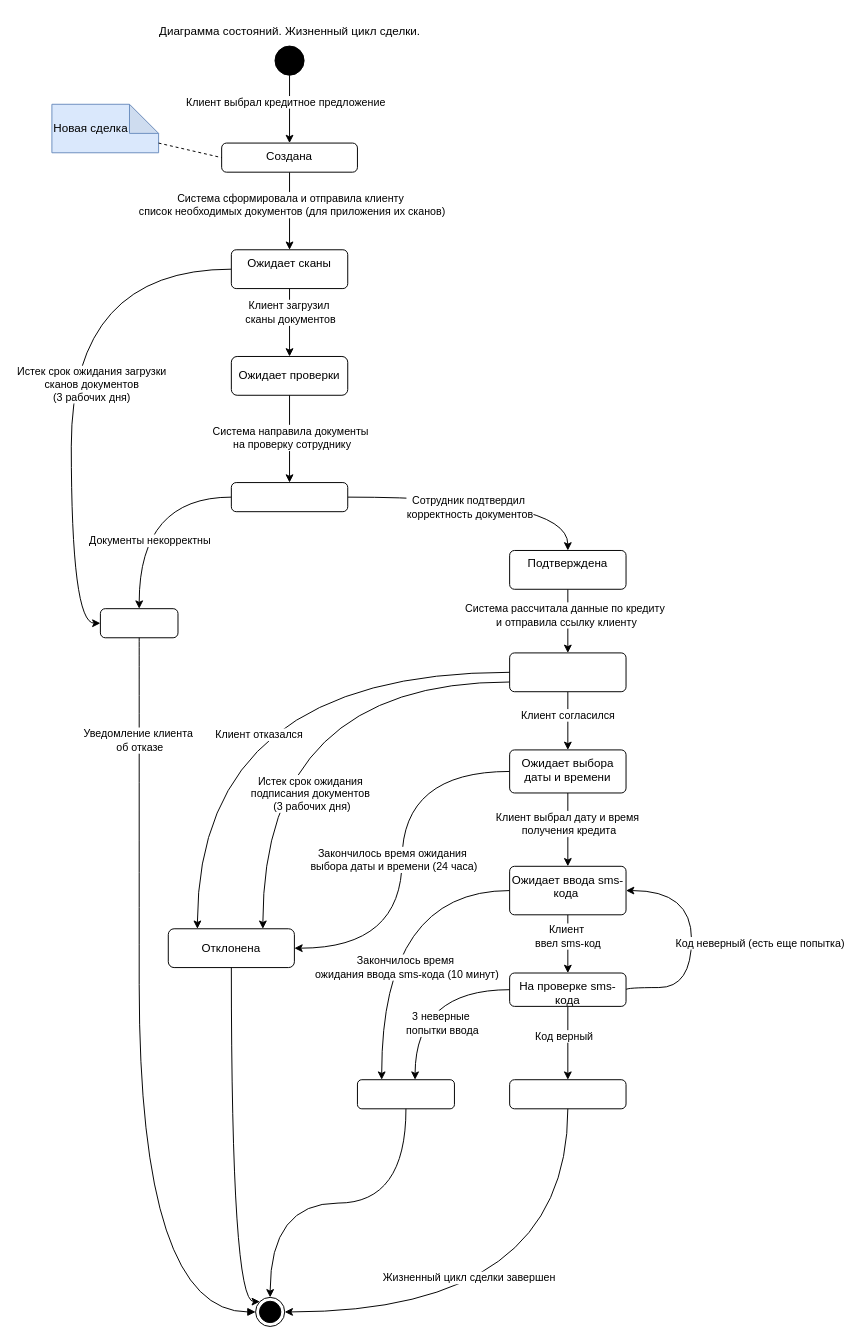
Image size: 861x1343. Some labels were removed from this diagram. Each missing label, with the centre of its shape:
"На проверке сканов" belongs at [289,497].
"Ожидает подписания" belongs at [567,672].
"Отказ" belongs at [138,623].
"Отменена" belongs at [405,1094].
"Подписана" belongs at [567,1094].
